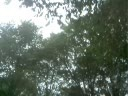window: (21, 0, 127, 95)
